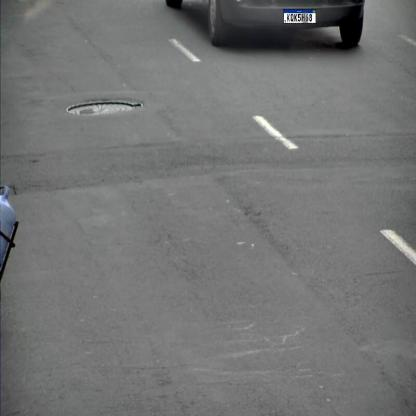PlacaM: (284, 9, 316, 24)
